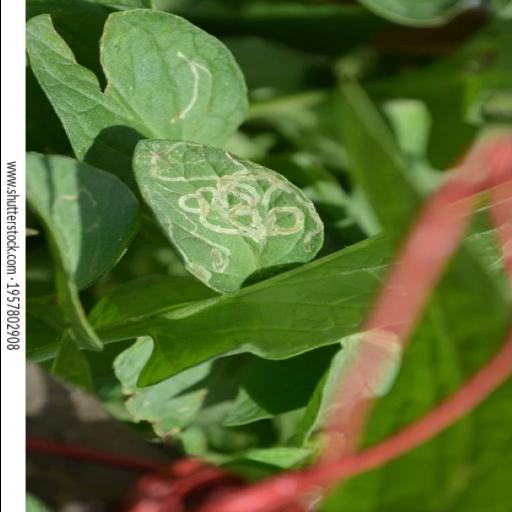disease_tomato: (128, 132, 322, 298), (97, 12, 249, 146)
